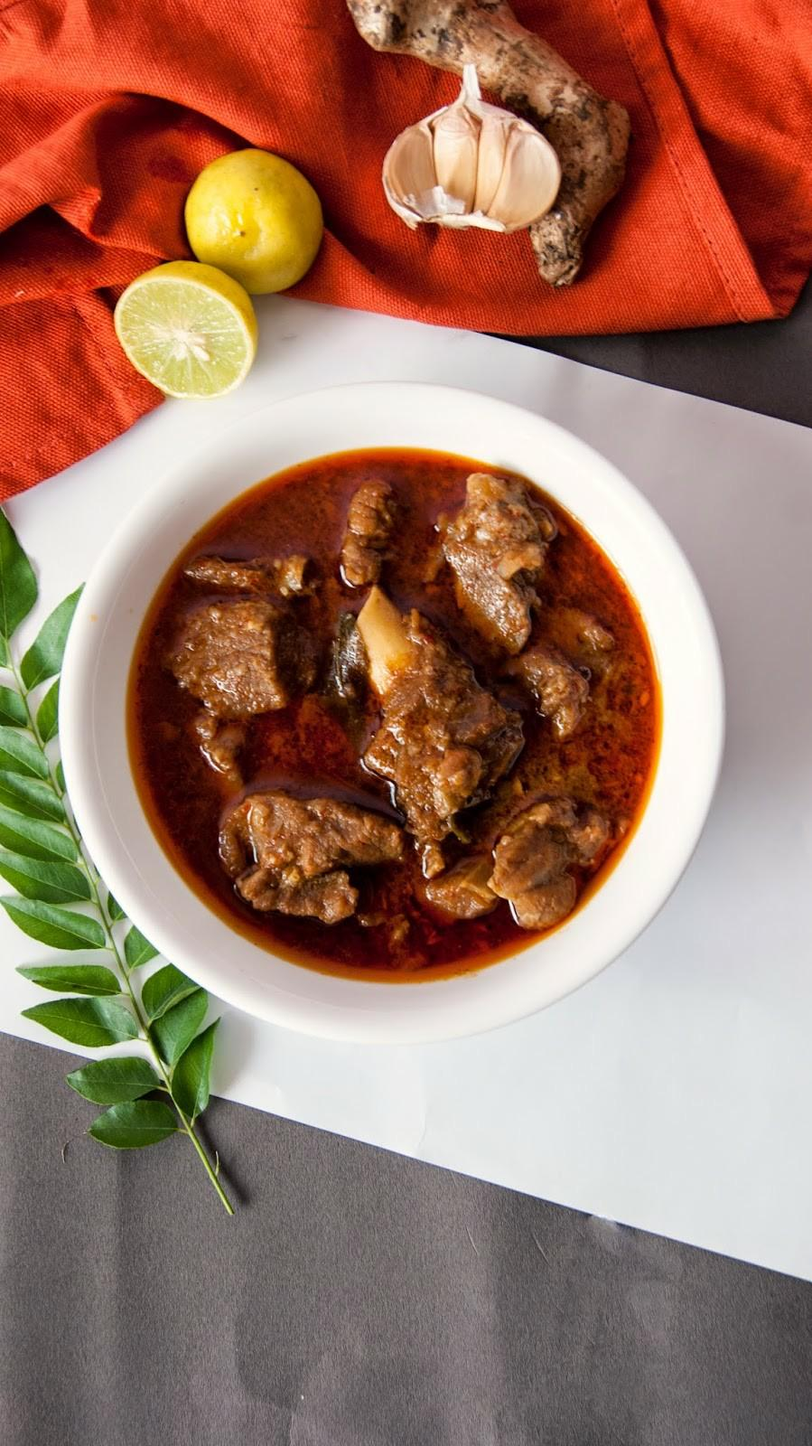MuttonCurry: (128, 456, 651, 967)
